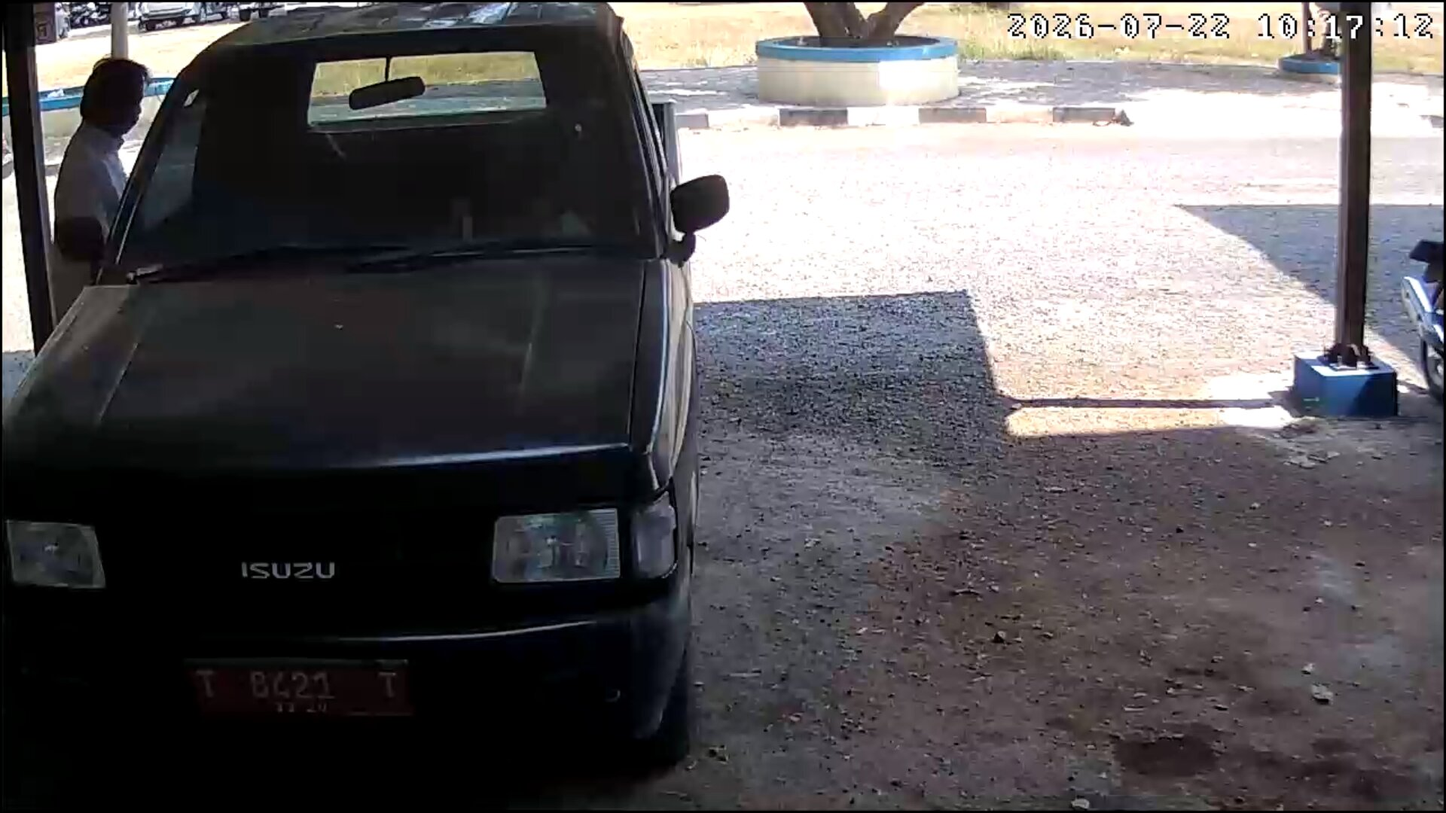plat nomor: (184, 661, 417, 721)
